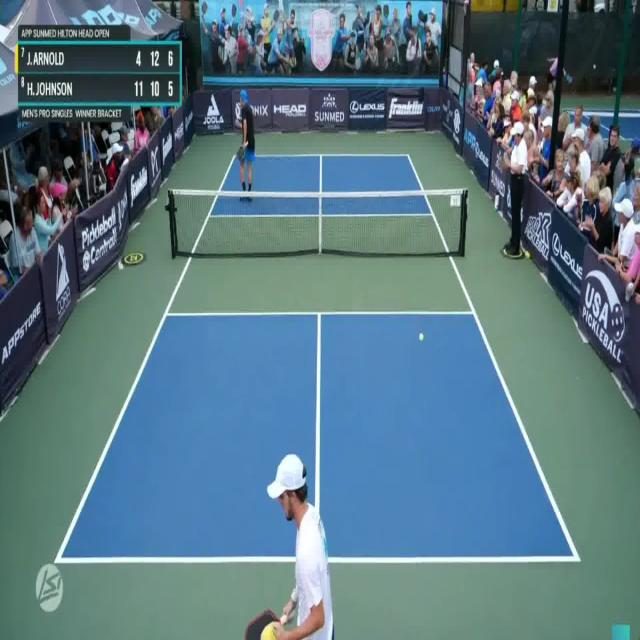ball: (418, 332, 424, 341)
